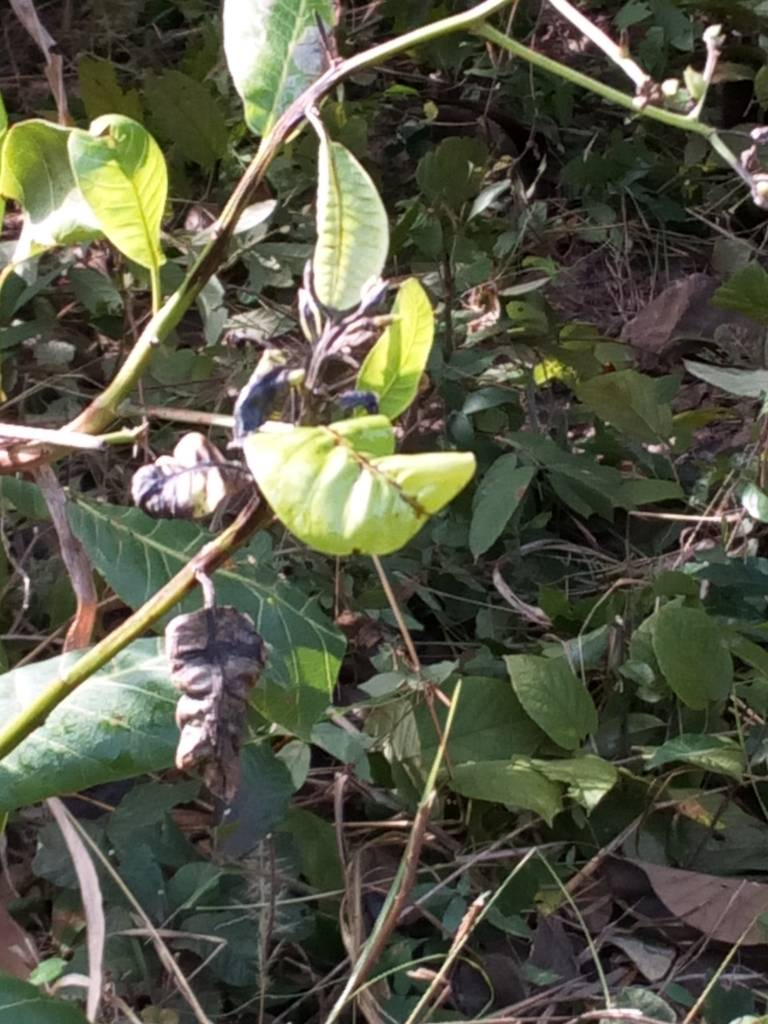Dessèchement des bourgeons: (236, 344, 389, 430)
